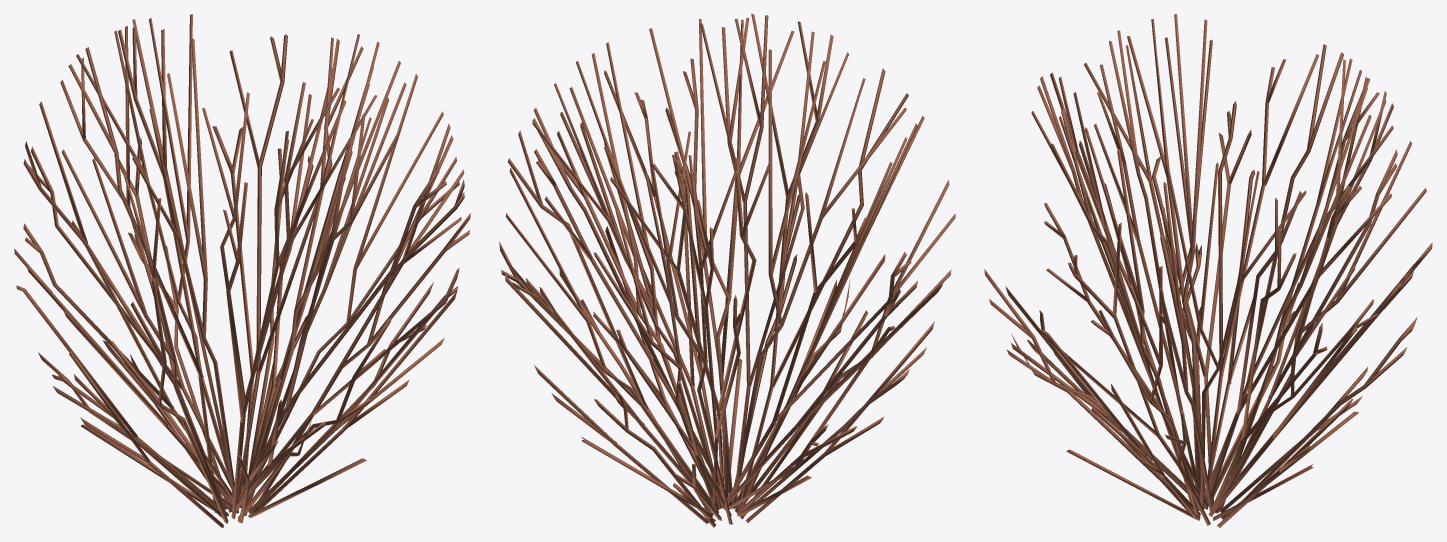
Rendered from shrub_round_02_dead.glb.
The picture shows the model from 3 angles, left to right: view 1: azimuth 30°, elevation 25°; view 2: azimuth 150°, elevation 25°; view 3: azimuth 270°, elevation 25°; orthographic projection. The views are drawn at different scales.
Visible parts, largest first — view 1: shrub_round_02_dead; view 2: shrub_round_02_dead; view 3: shrub_round_02_dead.
Part boxes in pixels (x1=…): shrub_round_02_dead: x1=14, y1=14, x2=470, y2=527; shrub_round_02_dead: x1=499, y1=14, x2=955, y2=527; shrub_round_02_dead: x1=984, y1=14, x2=1432, y2=527.
Bounding box in the file's own units: 1.52 × 1.78 × 1.51.
